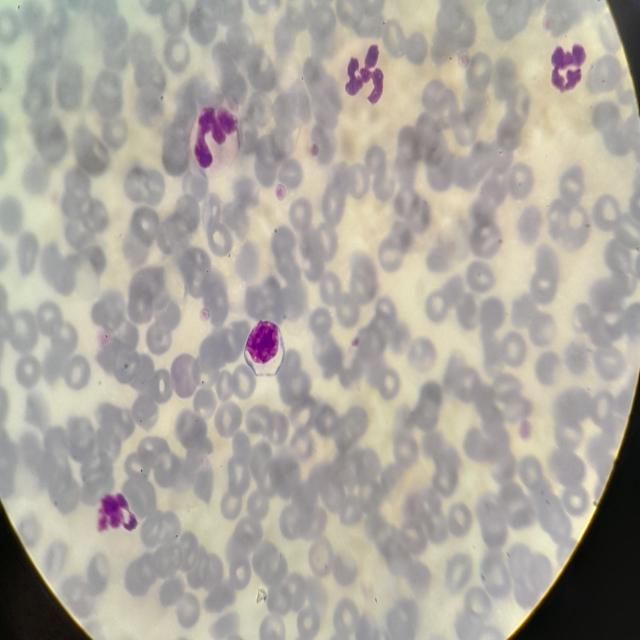Neutrofilo: (189, 105, 244, 177), (338, 39, 394, 109), (545, 39, 591, 97), (243, 315, 282, 373), (97, 488, 141, 535)
